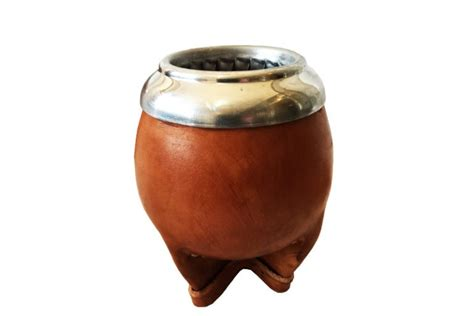cuero: (130, 106, 337, 308)
